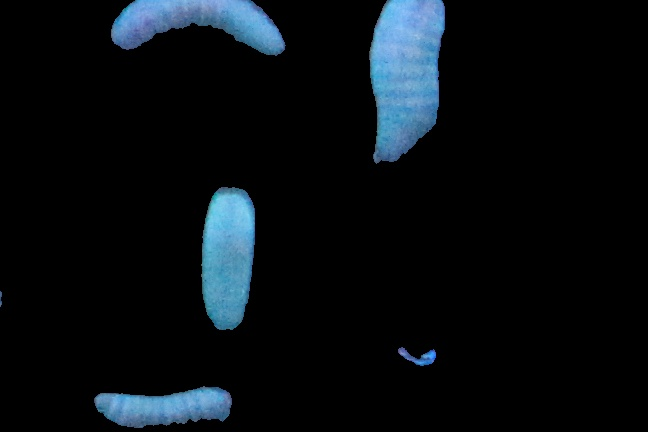larvae: (367, 1, 445, 163), (105, 1, 310, 53), (198, 188, 258, 327), (90, 383, 234, 428)
